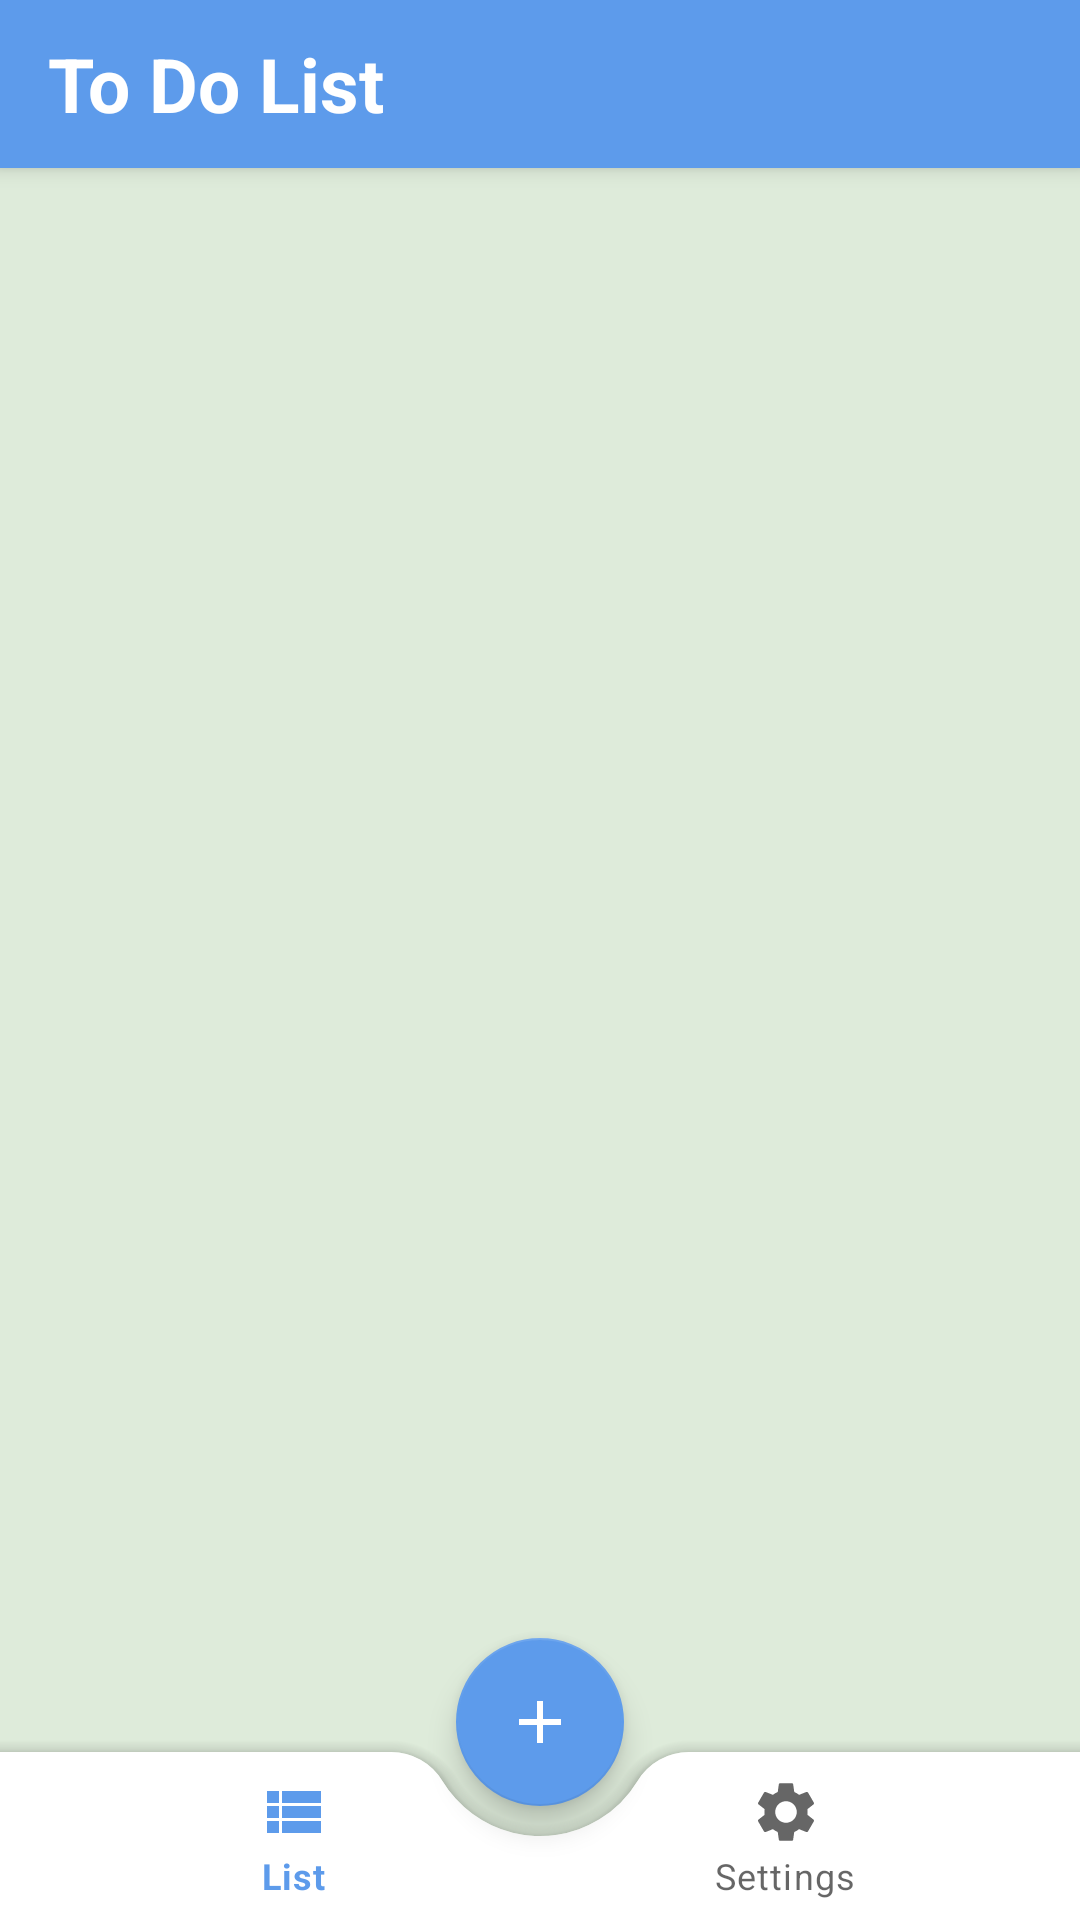

Icons on this 1080x1920 Android screen, each with the point to tap as point (x, y):
add: point (540, 1752)
